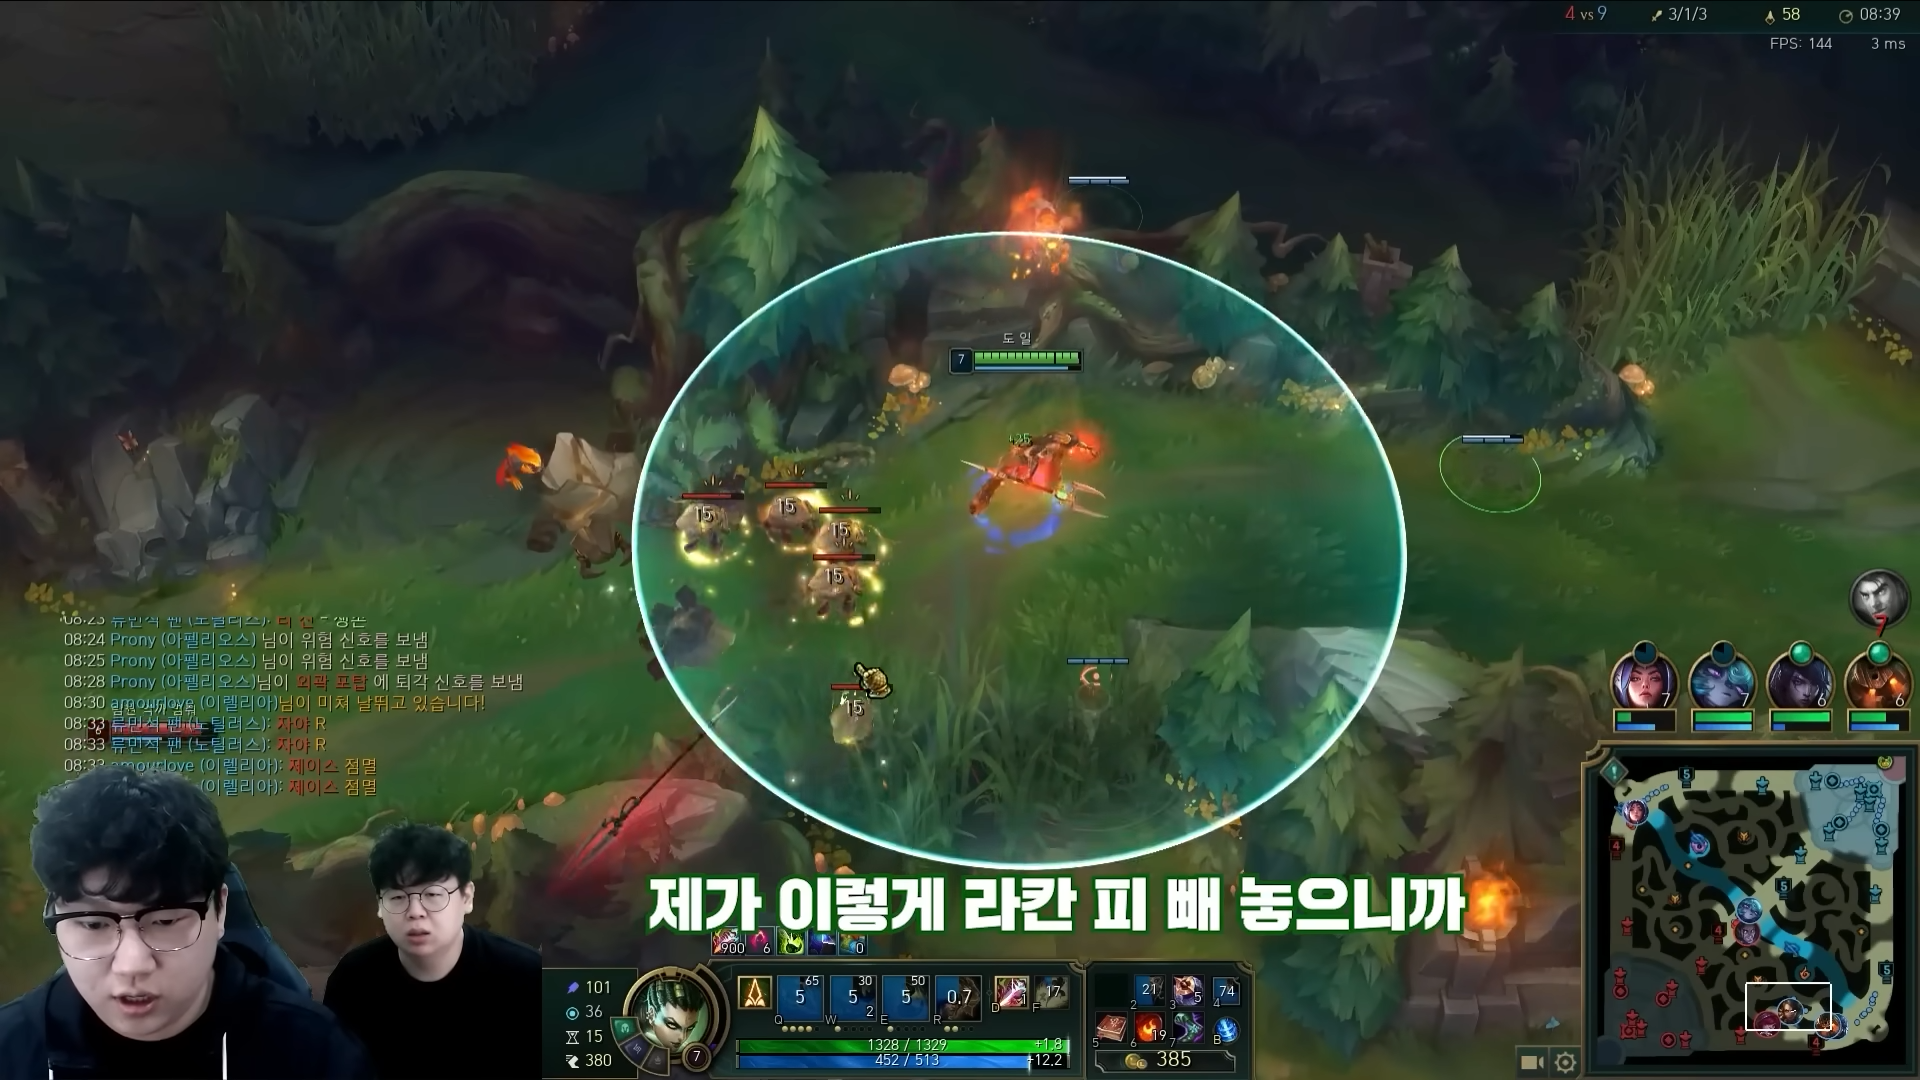Enemy: (506, 671, 753, 907)
Javelin: (76, 711, 223, 753)
Nidalee: (938, 343, 1091, 384)
